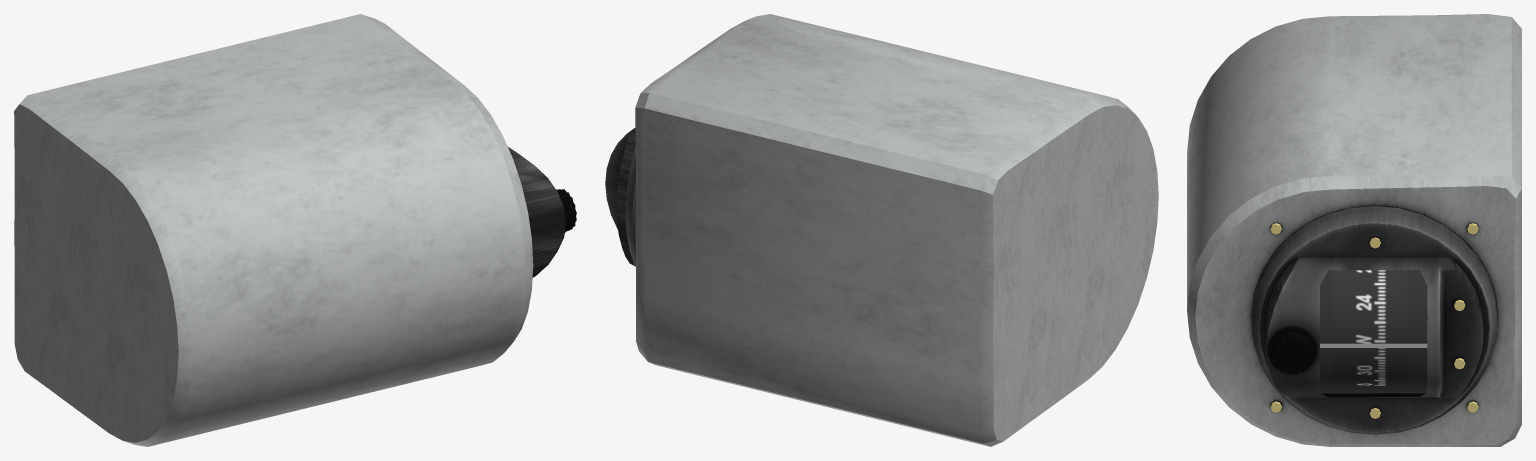
The model's file is MiG-15bis-Magcompass.gltf.
3 renders of one model, left to right at view 1: azimuth 30°, elevation 25°; view 2: azimuth 150°, elevation 25°; view 3: azimuth 270°, elevation 25°, orthographic. The views are drawn at different scales.
Visible parts, largest first — view 1: MC_Box, MC_Bezel; view 2: MC_Box, MC_Bezel; view 3: MC_Box, MC_Bezel, MC_Glass, MC_Cylinder, MC_Blackpanel, MC_Vern, MC_Line.
Part boxes in pixels (left/top/right/bottom): MC_Box: left=14, top=14, right=533, bottom=446; MC_Bezel: left=508, top=147, right=567, bottom=277; MC_Box: left=635, top=14, right=1158, bottom=446; MC_Bezel: left=605, top=128, right=635, bottom=266; MC_Box: left=1187, top=14, right=1521, bottom=446; MC_Bezel: left=1251, top=206, right=1497, bottom=434; MC_Glass: left=1320, top=270, right=1427, bottom=392; MC_Cylinder: left=1332, top=270, right=1407, bottom=385; MC_Blackpanel: left=1320, top=270, right=1427, bottom=397; MC_Vern: left=1270, top=331, right=1314, bottom=375; MC_Line: left=1320, top=343, right=1427, bottom=347.
Bounding box in the file's own units: 0.189 × 0.1135 × 0.1271.
2 materials, 1 textured.
